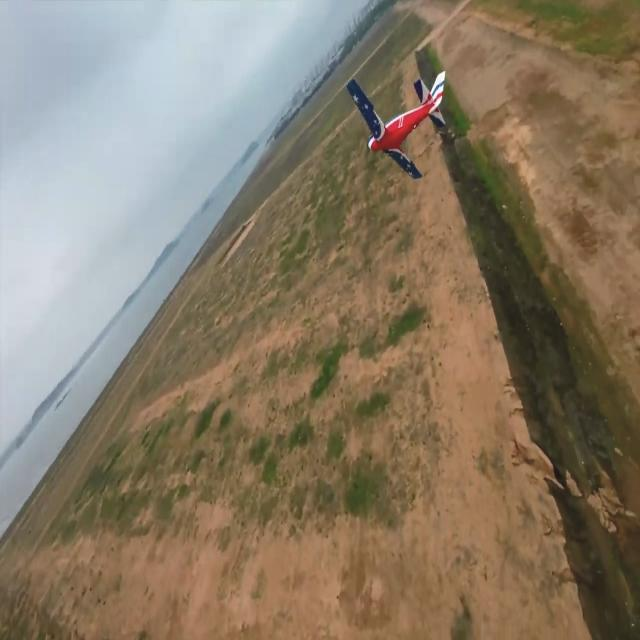iha: (372, 38, 431, 81)
